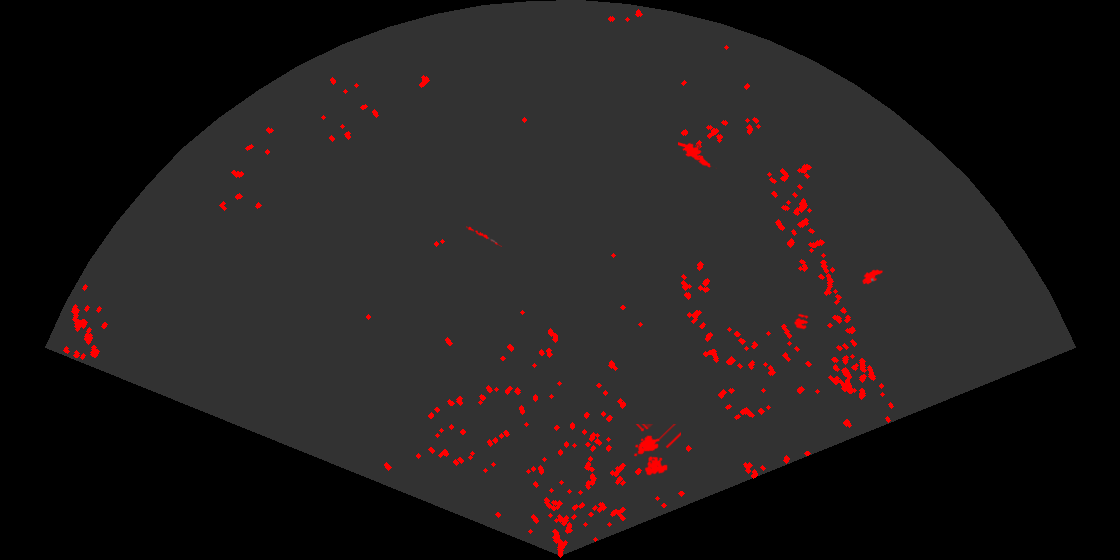AUV: (861, 268, 884, 286)
ball: (793, 312, 810, 331)
cage: (632, 424, 681, 477)
chain: (466, 225, 502, 247)
frogman: (678, 141, 717, 170)
